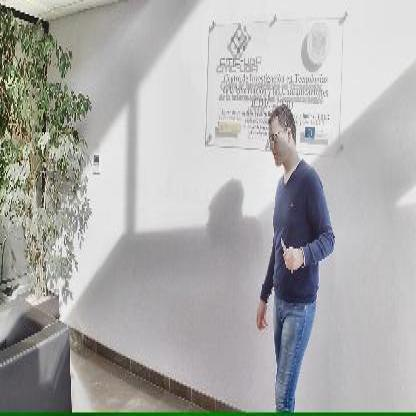knife: (278, 232, 294, 272)
